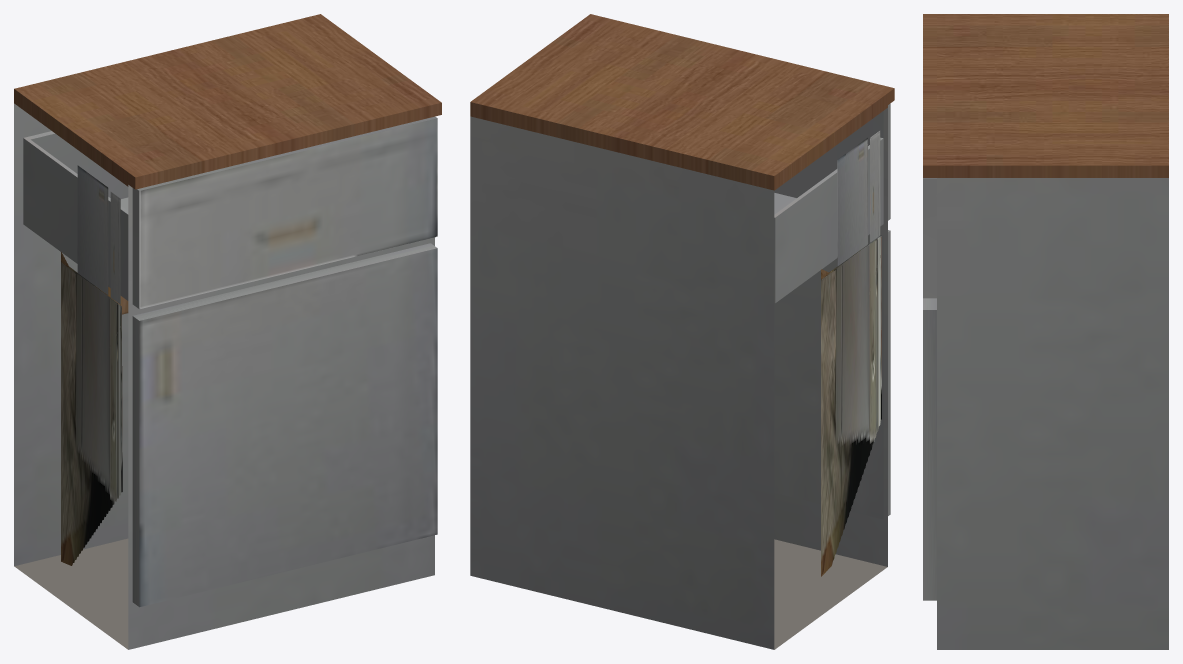
Rendered from kitchen_countertop_1.FBX.
3 views of the same model, side by side, from view 1: azimuth 30°, elevation 25°; view 2: azimuth 150°, elevation 25°; view 3: azimuth 270°, elevation 25° (orthographic). The views are drawn at different scales.
Parts seen in each view (by area): view 1: cupboard, cupboard_door, cupboard_drawer; view 2: cupboard, cupboard_door, cupboard_drawer; view 3: cupboard, cupboard_door, cupboard_drawer.
Part boxes in pixels (x1,y1,x2,y2): cupboard: (14,14,441,649); cupboard_door: (132,243,437,607); cupboard_drawer: (23,116,437,309); cupboard: (470,14,894,649); cupboard_door: (774,230,890,519); cupboard_drawer: (774,103,890,303); cupboard: (923,14,1168,649); cupboard_door: (923,298,936,600); cupboard_drawer: (923,178,936,298).
Size of the model in its own units: 40.58 by 60.39 by 27.77.
